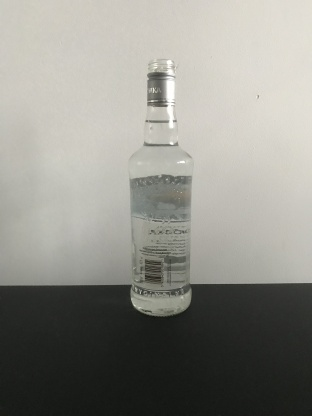nakretka: (145, 57, 177, 107)
